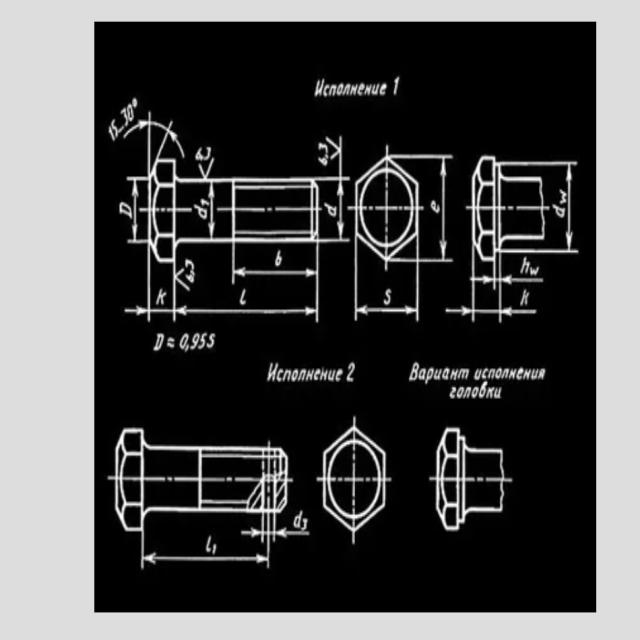marking_line: (173, 285, 320, 324), (140, 533, 270, 569), (354, 263, 421, 321), (231, 243, 319, 285), (421, 156, 454, 265), (447, 284, 538, 322), (546, 161, 578, 254), (124, 115, 188, 159), (318, 178, 350, 244), (241, 513, 310, 543), (125, 248, 152, 320), (470, 264, 544, 285), (127, 175, 147, 244)
numeric: (193, 204, 210, 218), (117, 203, 132, 218), (323, 202, 337, 218), (553, 204, 566, 221), (206, 330, 216, 351), (346, 361, 356, 382), (155, 289, 167, 305), (273, 250, 283, 269), (520, 256, 530, 275), (119, 109, 129, 127), (294, 511, 304, 529), (430, 200, 441, 215), (383, 289, 392, 306), (179, 333, 188, 350), (392, 76, 400, 95), (239, 288, 247, 306), (521, 289, 529, 307), (559, 188, 567, 206), (198, 332, 206, 350), (191, 332, 198, 351), (318, 140, 329, 152), (203, 145, 211, 161), (111, 121, 118, 139), (300, 517, 309, 531), (318, 156, 329, 167), (185, 258, 195, 270), (127, 104, 133, 122), (200, 198, 212, 207), (206, 535, 212, 553), (530, 266, 539, 278), (108, 126, 115, 141), (195, 147, 202, 162), (185, 274, 195, 284), (211, 543, 218, 554)
special_symbol: (176, 264, 191, 292), (199, 159, 216, 179), (327, 137, 340, 161)
